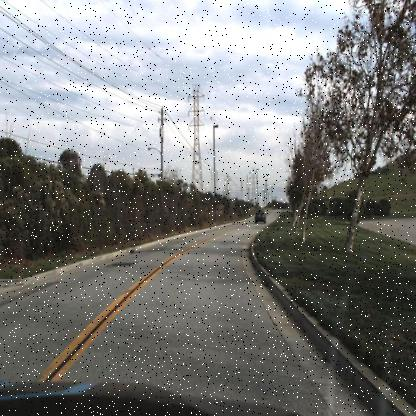car: (251, 206, 268, 225)
